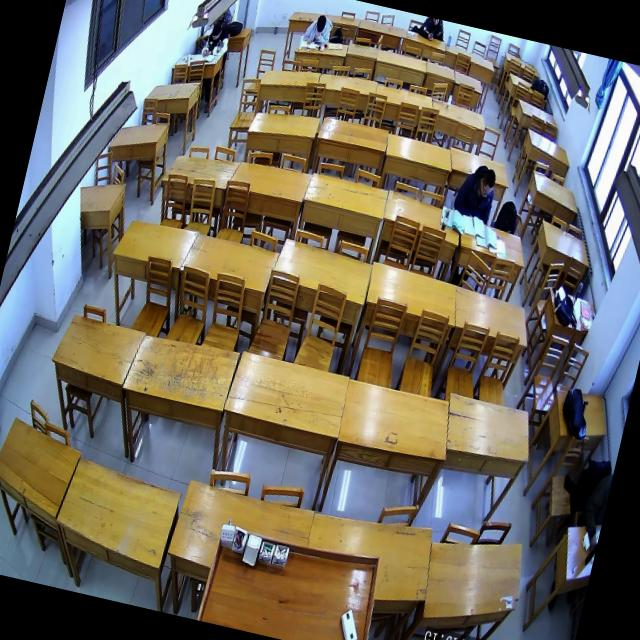down: (477, 168, 497, 198), (314, 14, 327, 34), (210, 21, 222, 41)
sit: (450, 160, 500, 224), (200, 20, 233, 61), (302, 12, 334, 46)
